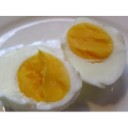begg: (65, 21, 123, 86), (1, 49, 62, 108)
